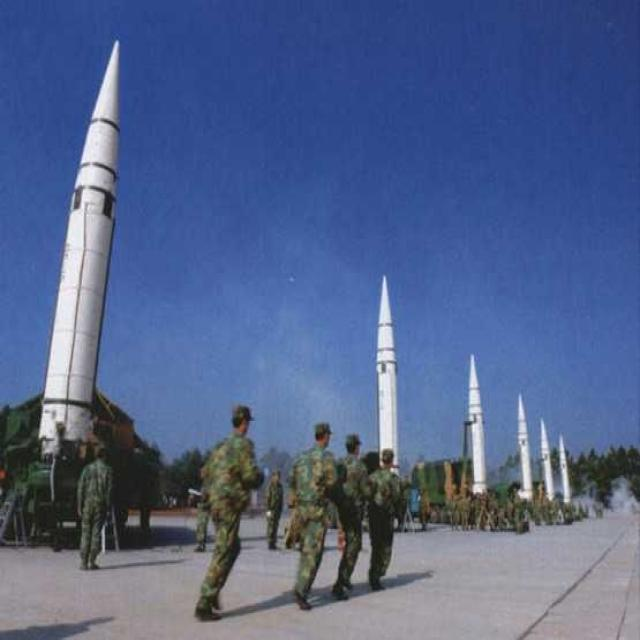missile: (27, 30, 127, 485), (374, 268, 400, 469), (464, 348, 489, 504), (515, 389, 533, 498), (538, 414, 558, 506), (556, 426, 574, 506)
